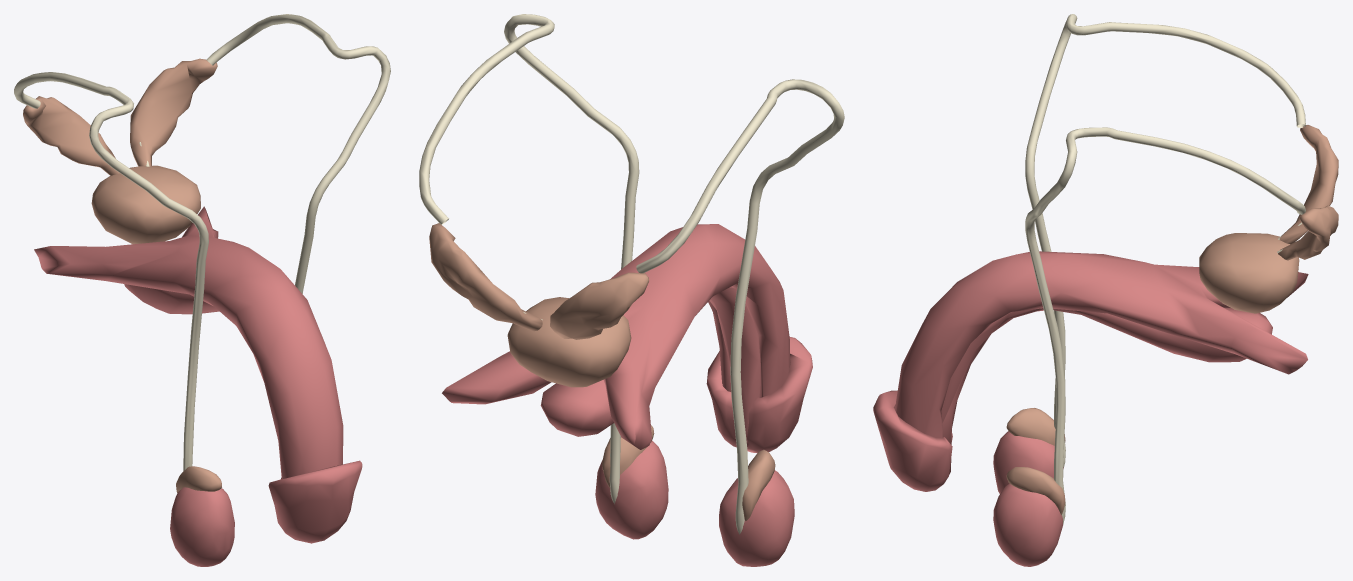
File: adult_male.reproductive.LOD1.glb
3 renders of one model, left to right at view 1: azimuth 30°, elevation 25°; view 2: azimuth 150°, elevation 25°; view 3: azimuth 270°, elevation 25°, orthographic. The views are drawn at different scales.
Visible parts, largest first — view 1: ADULT.MALE.REPRODUCTIVE.CORPUS_CAVERNOSUM_OF_PENIS, ADULT.MALE.REPRODUCTIVE.PROSTATE, ADULT.MALE.REPRODUCTIVE.DUCTUS_DEFERENS.R, ADULT.MALE.REPRODUCTIVE.GLANS_PENIS, ADULT.MALE.REPRODUCTIVE.SEMINAL_GLAND.L, ADULT.MALE.REPRODUCTIVE.DUCTUS_DEFERENS.L, ADULT.MALE.REPRODUCTIVE.TESTIS, ADULT.MALE.REPRODUCTIVE.SEMINAL_GLAND.R, ADULT.MALE.REPRODUCTIVE.CORPUS_SPONGIOSUM_OF_PENIS, ADULT.MALE.REPRODUCTIVE.EPIDIDYMIS.R; view 2: ADULT.MALE.REPRODUCTIVE.CORPUS_CAVERNOSUM_OF_PENIS, ADULT.MALE.REPRODUCTIVE.DUCTUS_DEFERENS.R, ADULT.MALE.REPRODUCTIVE.DUCTUS_DEFERENS.L, ADULT.MALE.REPRODUCTIVE.PROSTATE, ADULT.MALE.REPRODUCTIVE.CORPUS_SPONGIOSUM_OF_PENIS, ADULT.MALE.REPRODUCTIVE.GLANS_PENIS, ADULT.MALE.REPRODUCTIVE.TESTIS, ADULT.MALE.REPRODUCTIVE.TESTIS.L, ADULT.MALE.REPRODUCTIVE.SEMINAL_GLAND.L, ADULT.MALE.REPRODUCTIVE.SEMINAL_GLAND.R, ADULT.MALE.REPRODUCTIVE.EPIDIDYMIS.R, ADULT.MALE.REPRODUCTIVE.EPIDIDYMIS.L; view 3: ADULT.MALE.REPRODUCTIVE.CORPUS_CAVERNOSUM_OF_PENIS, ADULT.MALE.REPRODUCTIVE.PROSTATE, ADULT.MALE.REPRODUCTIVE.DUCTUS_DEFERENS.L, ADULT.MALE.REPRODUCTIVE.DUCTUS_DEFERENS.R, ADULT.MALE.REPRODUCTIVE.CORPUS_SPONGIOSUM_OF_PENIS, ADULT.MALE.REPRODUCTIVE.GLANS_PENIS, ADULT.MALE.REPRODUCTIVE.TESTIS.L, ADULT.MALE.REPRODUCTIVE.SEMINAL_GLAND.R, ADULT.MALE.REPRODUCTIVE.TESTIS, ADULT.MALE.REPRODUCTIVE.SEMINAL_GLAND.L, ADULT.MALE.REPRODUCTIVE.EPIDIDYMIS.L, ADULT.MALE.REPRODUCTIVE.EPIDIDYMIS.R.
Boxes of the visible parts, <box> form: ADULT.MALE.REPRODUCTIVE.CORPUS_CAVERNOSUM_OF_PENIS: <box>34,206,343,479</box>; ADULT.MALE.REPRODUCTIVE.PROSTATE: <box>91,165,200,244</box>; ADULT.MALE.REPRODUCTIVE.DUCTUS_DEFERENS.R: <box>14,72,208,470</box>; ADULT.MALE.REPRODUCTIVE.GLANS_PENIS: <box>268,460,362,543</box>; ADULT.MALE.REPRODUCTIVE.SEMINAL_GLAND.L: <box>130,58,217,166</box>; ADULT.MALE.REPRODUCTIVE.DUCTUS_DEFERENS.L: <box>206,14,390,293</box>; ADULT.MALE.REPRODUCTIVE.TESTIS: <box>170,487,234,566</box>; ADULT.MALE.REPRODUCTIVE.SEMINAL_GLAND.R: <box>23,96,119,175</box>; ADULT.MALE.REPRODUCTIVE.CORPUS_SPONGIOSUM_OF_PENIS: <box>124,284,219,314</box>; ADULT.MALE.REPRODUCTIVE.EPIDIDYMIS.R: <box>176,466,221,492</box>; ADULT.MALE.REPRODUCTIVE.CORPUS_CAVERNOSUM_OF_PENIS: <box>442,224,789,449</box>; ADULT.MALE.REPRODUCTIVE.DUCTUS_DEFERENS.R: <box>636,79,844,534</box>; ADULT.MALE.REPRODUCTIVE.DUCTUS_DEFERENS.L: <box>419,14,639,504</box>; ADULT.MALE.REPRODUCTIVE.PROSTATE: <box>507,297,631,387</box>; ADULT.MALE.REPRODUCTIVE.CORPUS_SPONGIOSUM_OF_PENIS: <box>540,287,760,448</box>; ADULT.MALE.REPRODUCTIVE.GLANS_PENIS: <box>706,337,812,453</box>; ADULT.MALE.REPRODUCTIVE.TESTIS: <box>719,470,794,566</box>; ADULT.MALE.REPRODUCTIVE.TESTIS.L: <box>595,440,668,539</box>; ADULT.MALE.REPRODUCTIVE.SEMINAL_GLAND.L: <box>429,223,542,331</box>; ADULT.MALE.REPRODUCTIVE.SEMINAL_GLAND.R: <box>550,272,648,339</box>; ADULT.MALE.REPRODUCTIVE.EPIDIDYMIS.R: <box>742,449,775,520</box>; ADULT.MALE.REPRODUCTIVE.EPIDIDYMIS.L: <box>602,425,654,487</box>; ADULT.MALE.REPRODUCTIVE.CORPUS_CAVERNOSUM_OF_PENIS: <box>895,251,1308,437</box>; ADULT.MALE.REPRODUCTIVE.PROSTATE: <box>1199,233,1299,313</box>; ADULT.MALE.REPRODUCTIVE.DUCTUS_DEFERENS.L: <box>1025,127,1305,524</box>; ADULT.MALE.REPRODUCTIVE.DUCTUS_DEFERENS.R: <box>1025,14,1305,467</box>; ADULT.MALE.REPRODUCTIVE.CORPUS_SPONGIOSUM_OF_PENIS: <box>941,308,1272,474</box>; ADULT.MALE.REPRODUCTIVE.GLANS_PENIS: <box>873,390,952,491</box>; ADULT.MALE.REPRODUCTIVE.TESTIS.L: <box>993,483,1062,566</box>; ADULT.MALE.REPRODUCTIVE.SEMINAL_GLAND.R: <box>1279,125,1338,244</box>; ADULT.MALE.REPRODUCTIVE.TESTIS: <box>993,431,1063,493</box>; ADULT.MALE.REPRODUCTIVE.SEMINAL_GLAND.L: <box>1278,205,1338,260</box>; ADULT.MALE.REPRODUCTIVE.EPIDIDYMIS.L: <box>1006,467,1065,514</box>; ADULT.MALE.REPRODUCTIVE.EPIDIDYMIS.R: <box>1006,408,1065,445</box>.
Size of the model in its own units: 0.1121 by 0.1654 by 0.1509.
